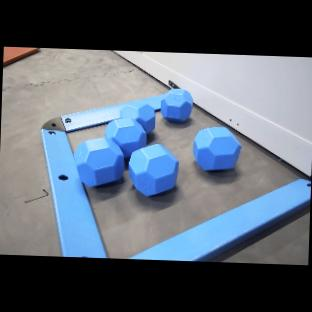V5_BLUE: (128, 144, 178, 196), (74, 138, 124, 187), (193, 127, 241, 171), (105, 118, 146, 159), (120, 101, 155, 134), (160, 88, 193, 123)
